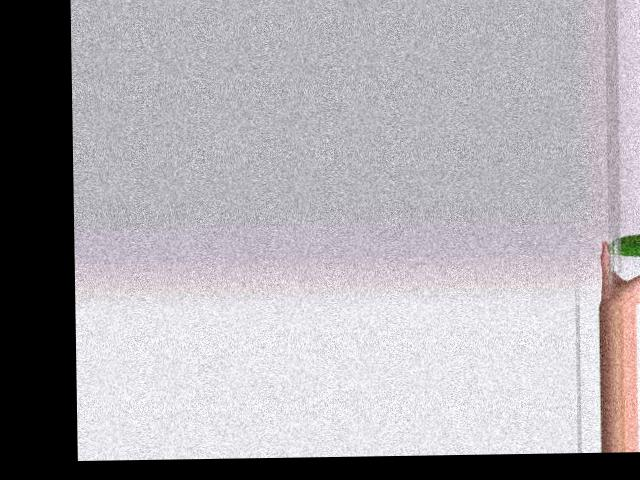cucumber: (607, 233, 640, 257)
